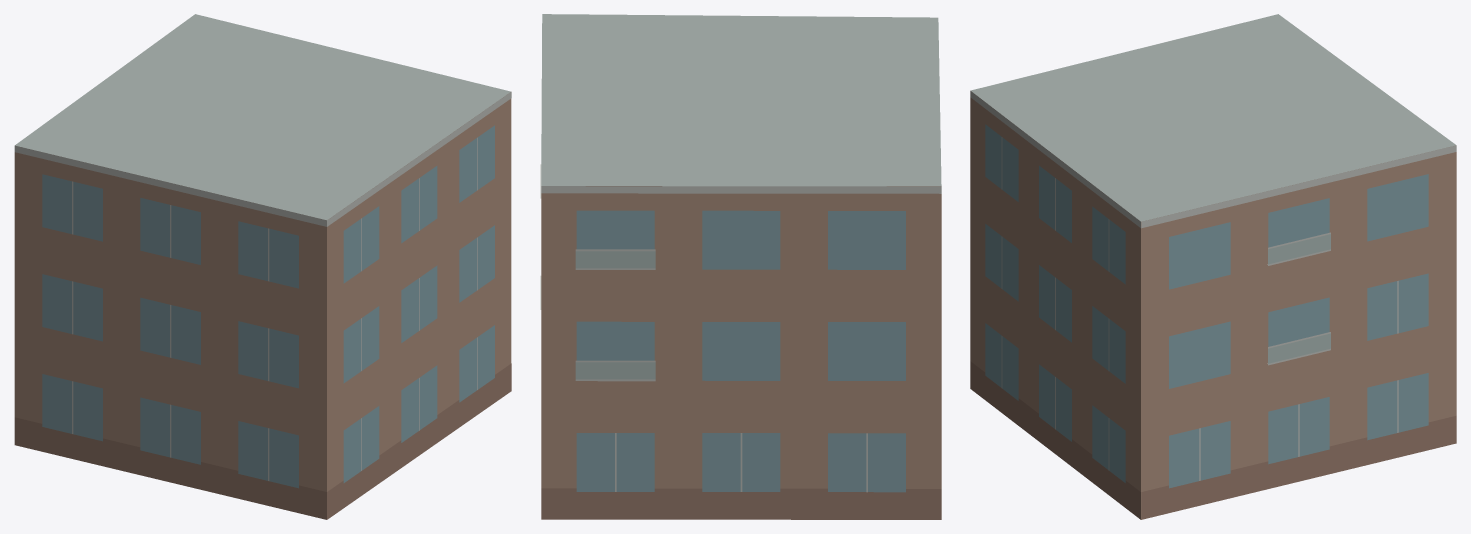
Rendered from survey-upis-32827249.glb.
3 renders of one model, left to right at view 1: azimuth 30°, elevation 25°; view 2: azimuth 150°, elevation 25°; view 3: azimuth 270°, elevation 25°, orthographic. The views are drawn at different scales.
Parts seen in each view (by area): view 1: survey-upis-32827249.tmp; view 2: survey-upis-32827249.tmp; view 3: survey-upis-32827249.tmp.
Boxes of the visible parts, x1,y1,x2,y2 form: survey-upis-32827249.tmp: [14, 14, 511, 519]; survey-upis-32827249.tmp: [540, 14, 941, 519]; survey-upis-32827249.tmp: [970, 14, 1456, 519].
Size of the model in its own units: 16.45 by 11 by 16.27.
